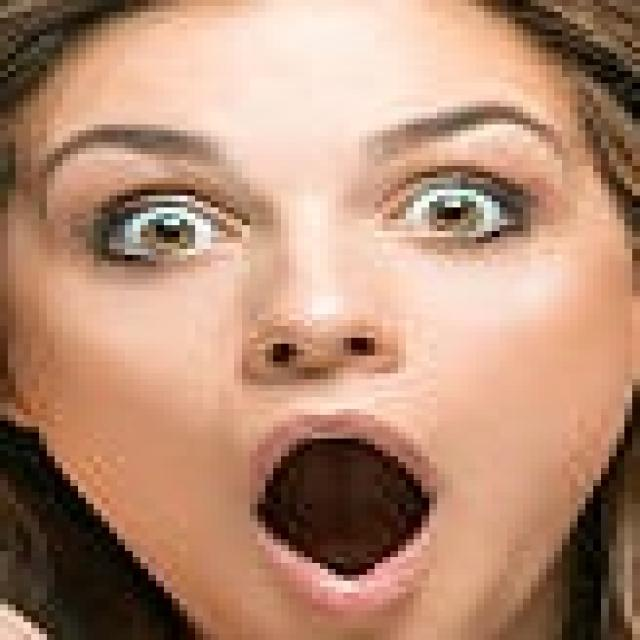Anxiety: (0, 3, 632, 634)
